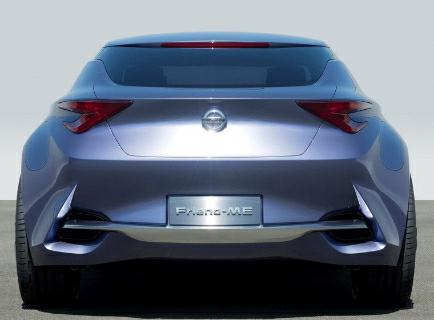日产-Friend-ME: (11, 26, 422, 313)
